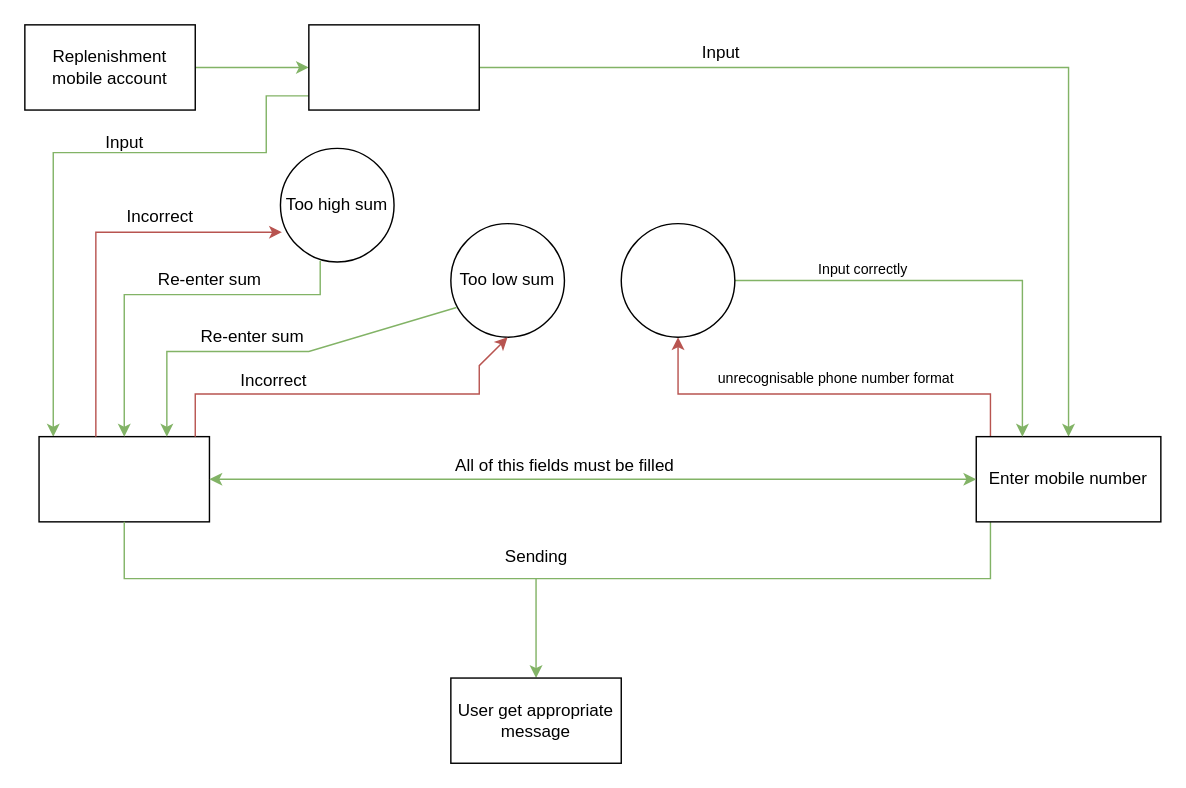
This 1186x788 diagram has some shape labels left out. The centre of each missing label's shape, as x and y in pixels:
"Enter amount of money" belongs at [123,478].
"Incorrect format of number" belongs at [677,279].
"Use Sending Money option" belongs at [393,66].
